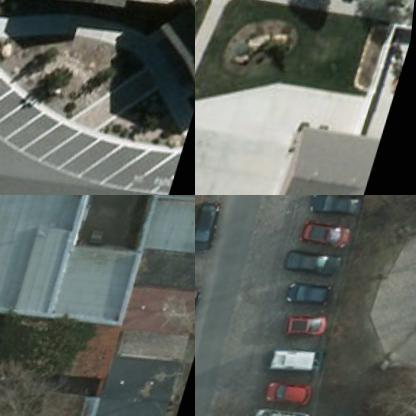car: (284, 251, 344, 291), (302, 223, 361, 263), (311, 195, 371, 231), (285, 282, 341, 320), (281, 314, 337, 351), (195, 203, 230, 261), (271, 350, 327, 386), (267, 380, 323, 415), (195, 286, 213, 344)
